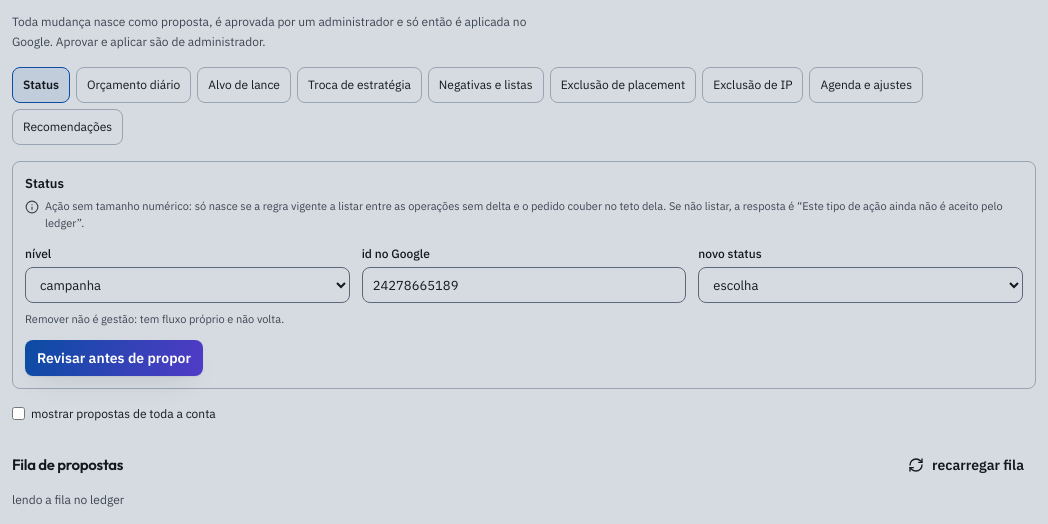
it: propor: formulário → antes/depois → proposta › alvo de lance mostra o campo da estratégia lida
Click the button "Alvo de lance": (244, 85) x1=197 y1=67 x2=291 y2=103
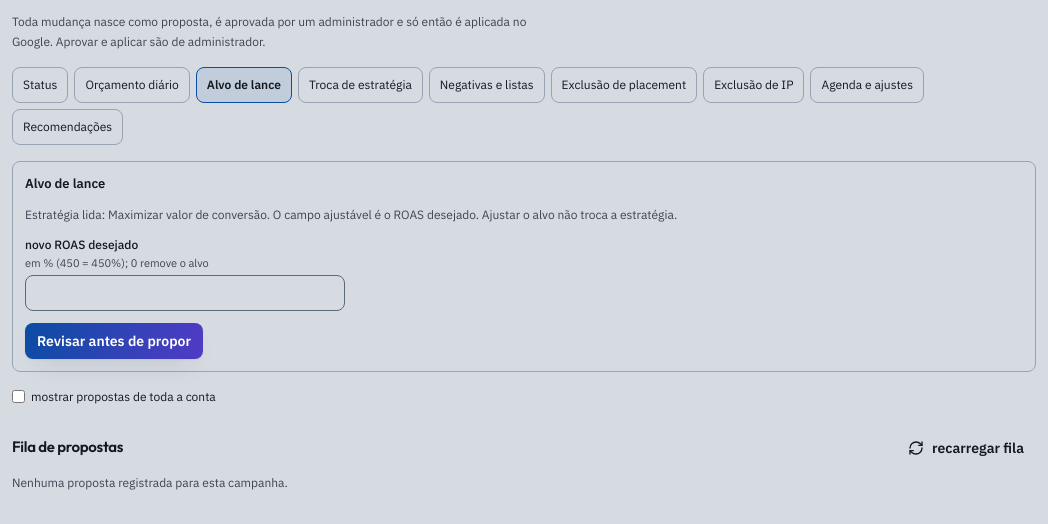
Check: the field labelled "novo ROAS desejado" is shown, box x1=25 y1=275 x2=345 y2=311
